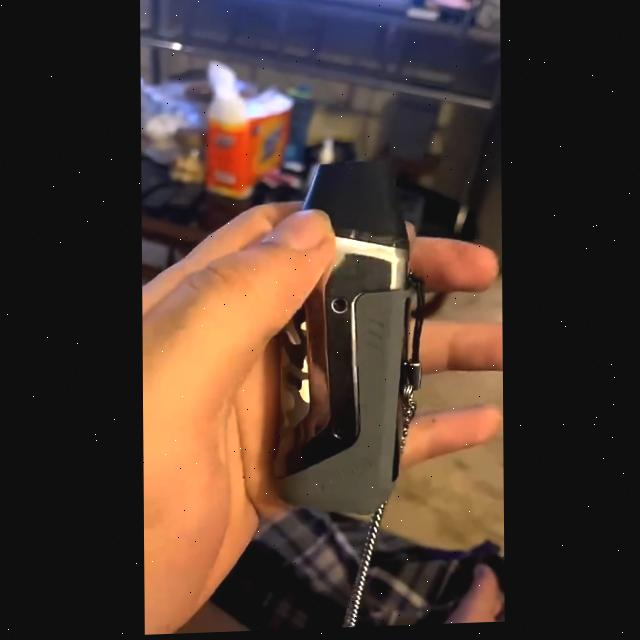vape: (267, 161, 414, 522)
